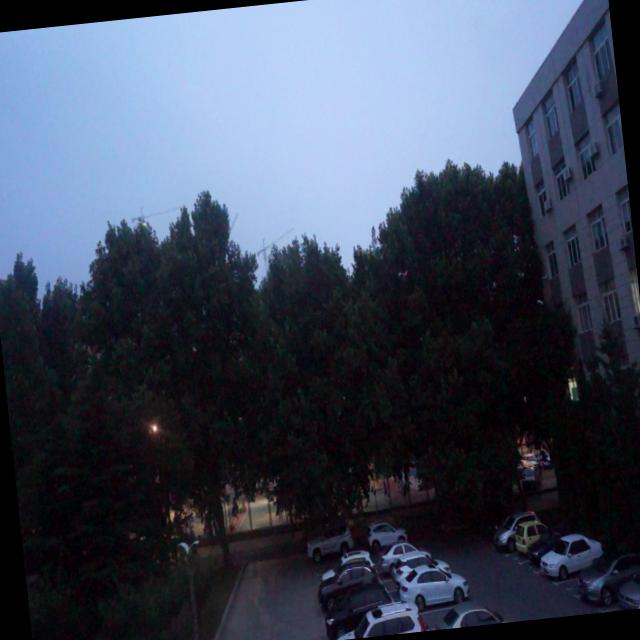drone: (396, 264, 412, 282)
